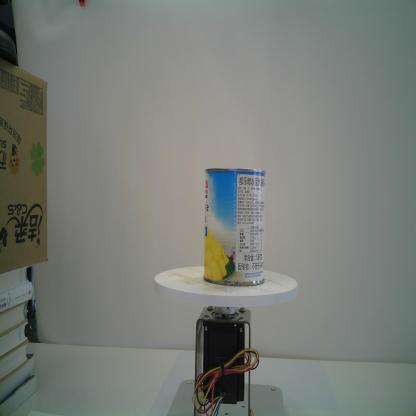Canned Food: (202, 167, 267, 289)
